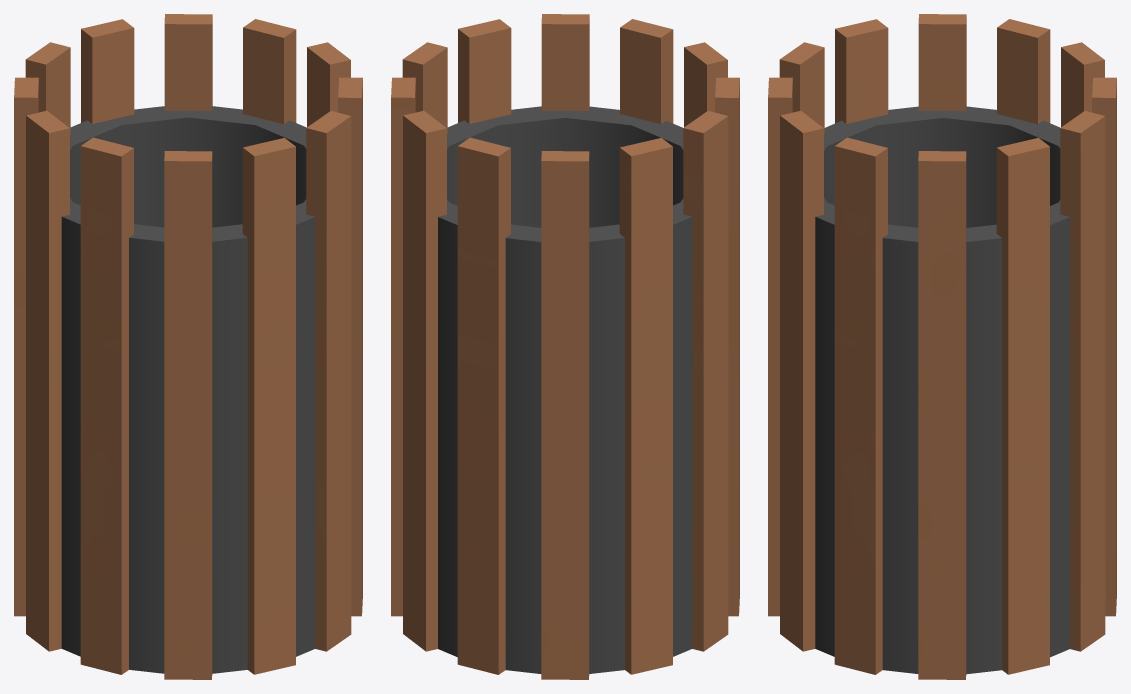
The model's file is Trash_Can_2.fbx.
3 renders of one model, left to right at view 1: azimuth 30°, elevation 25°; view 2: azimuth 150°, elevation 25°; view 3: azimuth 270°, elevation 25°, orthographic.
Parts seen in each view (by area): view 1: tempat_sampah007; view 2: tempat_sampah007; view 3: tempat_sampah007.
Part boxes in pixels (<box>): tempat_sampah007: <box>14,14,362,679</box>; tempat_sampah007: <box>391,14,739,679</box>; tempat_sampah007: <box>768,14,1116,679</box>.
Bounding box in the file's own units: 1291 × 2116 × 1291.
